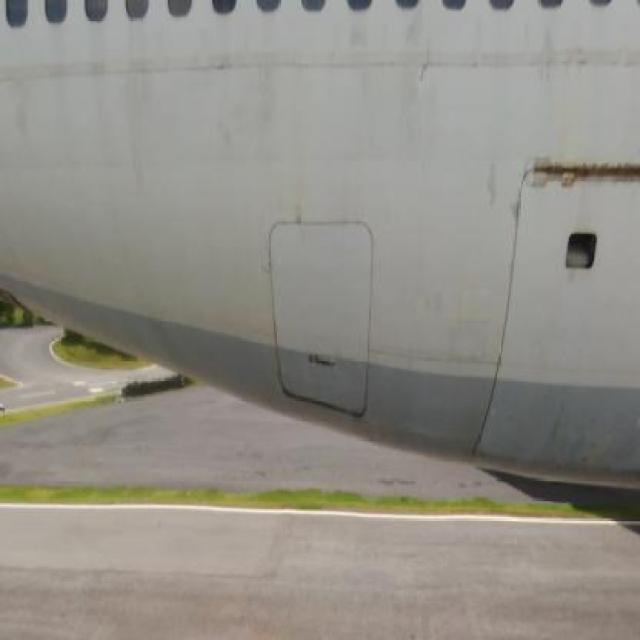Scartch: (521, 138, 640, 201)
